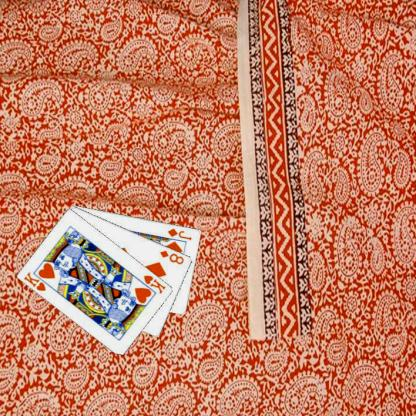8D: (158, 247, 185, 266)
JD: (165, 225, 193, 242)
KH: (22, 269, 47, 292), (141, 273, 167, 295)
